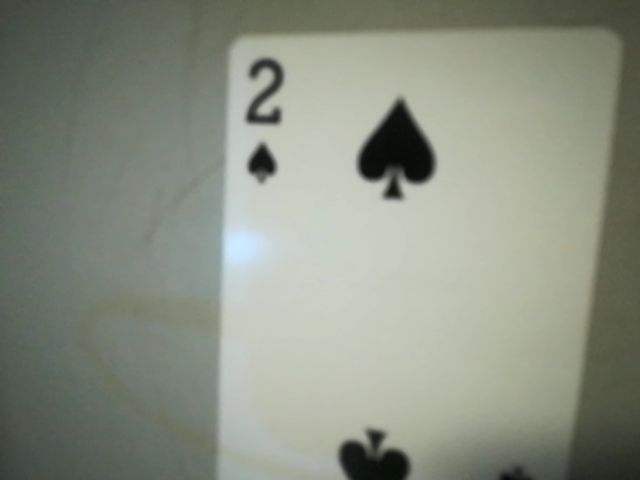ht 2: (224, 46, 304, 194)
